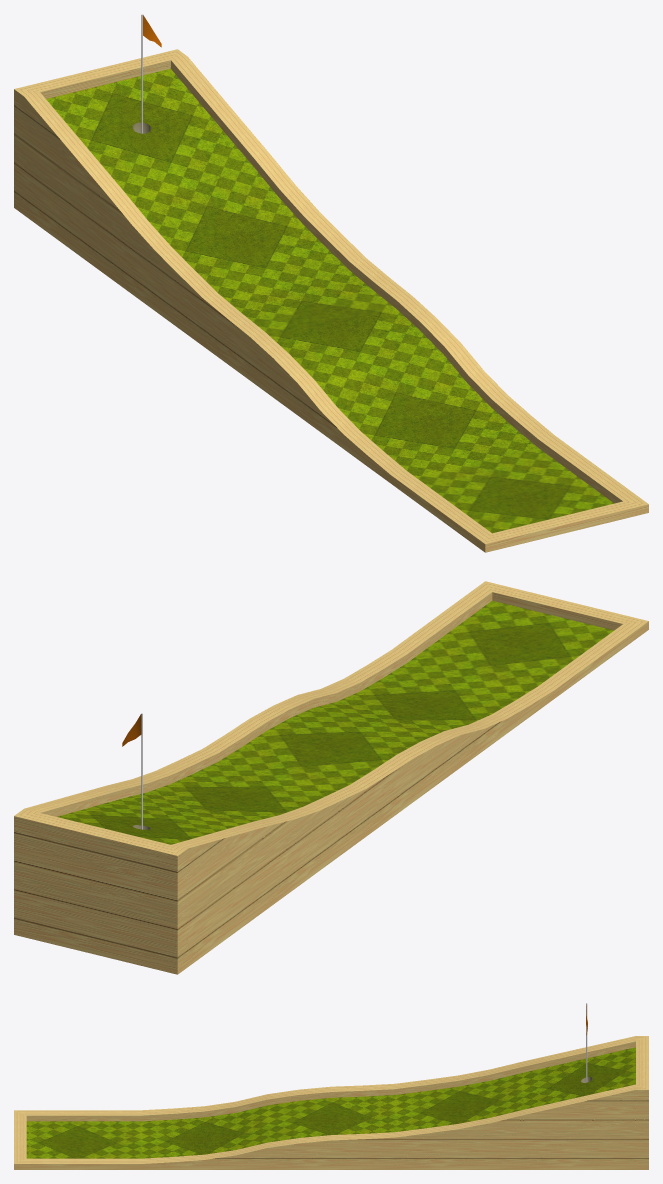
Rendered from course1_hole11.fbx.
The picture shows the model from 3 angles, top to bottom: view 1: azimuth 30°, elevation 25°; view 2: azimuth 150°, elevation 25°; view 3: azimuth 270°, elevation 25°; orthographic projection. The views are drawn at different scales.
Visible parts, largest first — view 1: course1_hole11_ground, course1_hole11_walls; view 2: course1_hole11_walls, course1_hole11_ground; view 3: course1_hole11_walls, course1_hole11_ground.
Boxes of the visible parts, left/top/right/bottom form: course1_hole11_ground: left=46, top=68, right=613, bottom=533; course1_hole11_walls: left=14, top=49, right=648, bottom=552; course1_hole11_walls: left=14, top=581, right=648, bottom=974; course1_hole11_ground: left=57, top=600, right=613, bottom=844; course1_hole11_walls: left=14, top=1036, right=648, bottom=1169; course1_hole11_ground: left=26, top=1047, right=635, bottom=1158.
Bounding box in the file's own units: 3 × 3.63 × 14.96.
